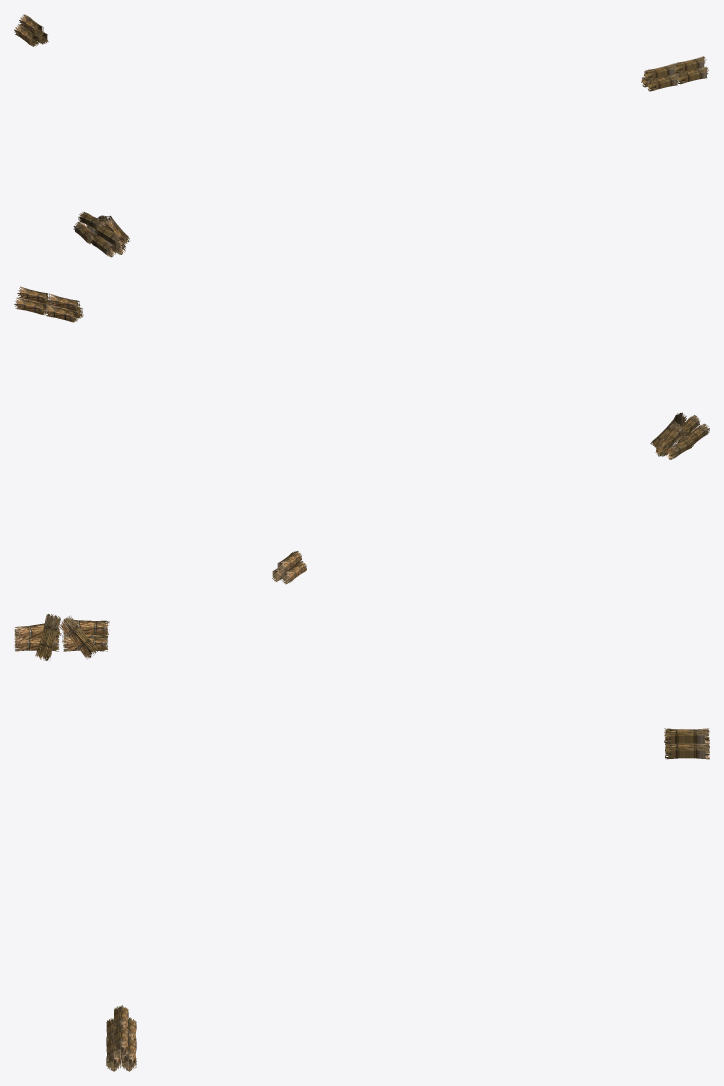
File: wujian_002.FBX
3 renders of one model, top to bottom at view 1: azimuth 30°, elevation 25°; view 2: azimuth 150°, elevation 25°; view 3: azimuth 270°, elevation 25°, orthographic. The views are drawn at different scales.
Visible parts, largest first — view 1: 045, 046, 047; view 2: 045, 046, 047; view 3: 045, 046, 047.
Boxes of the visible parts, bbox=[...] form: 045: bbox=[73, 212, 130, 257]; 046: bbox=[641, 56, 708, 91]; 047: bbox=[14, 14, 48, 46]; 045: bbox=[650, 412, 709, 459]; 046: bbox=[14, 286, 83, 322]; 047: bbox=[272, 551, 306, 584]; 045: bbox=[14, 614, 109, 660]; 046: bbox=[106, 1005, 136, 1071]; 047: bbox=[664, 728, 709, 759].
Bounding box in the file's own units: 4610 × 206 × 3151.
